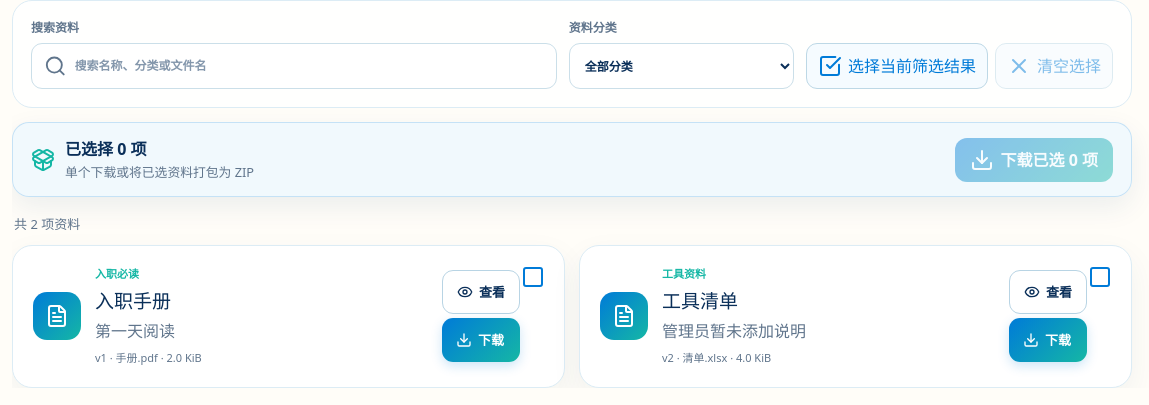
onboarding-kit UI › supports employee filtering, selecting current results and clearing selection
The width and height of the screenshot is (1149, 405).
Expected: the heading "入职手册" is shown, [95, 288, 171, 314]
Select "工具资料" in the dropdown labelled "资料分类" at (681, 66), box [569, 43, 794, 89]
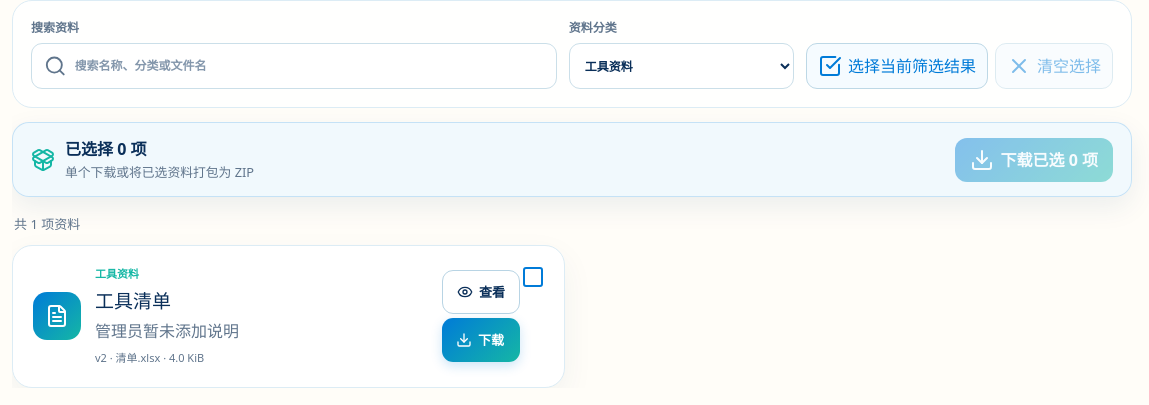
Expected: the heading "工具清单" is shown, [95, 288, 171, 314]
Result: the heading "入职手册" is gone
Click the button "选择当前筛选结果" at (897, 66), box [806, 43, 988, 89]
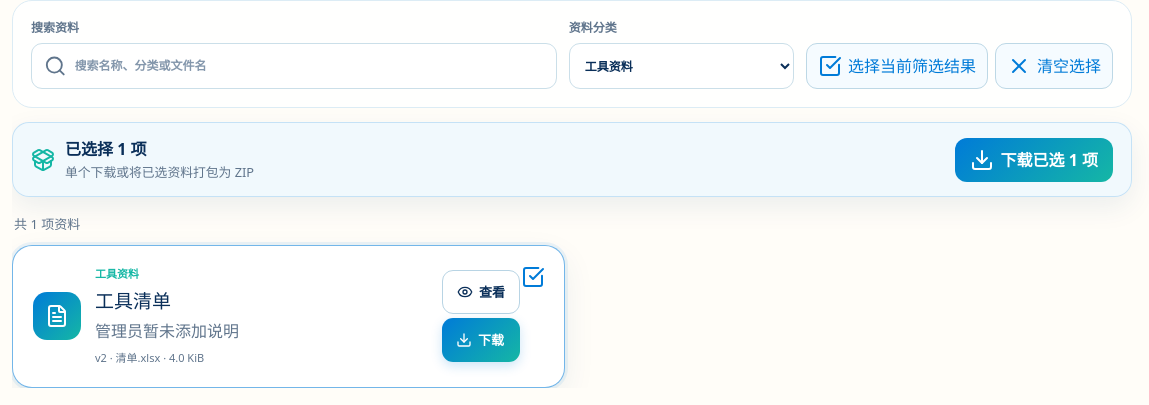
Result: the button "下载已选 1 项" is enabled at [954, 138, 1113, 182]
Click the button "清空选择" at (1054, 66), box [995, 43, 1113, 89]
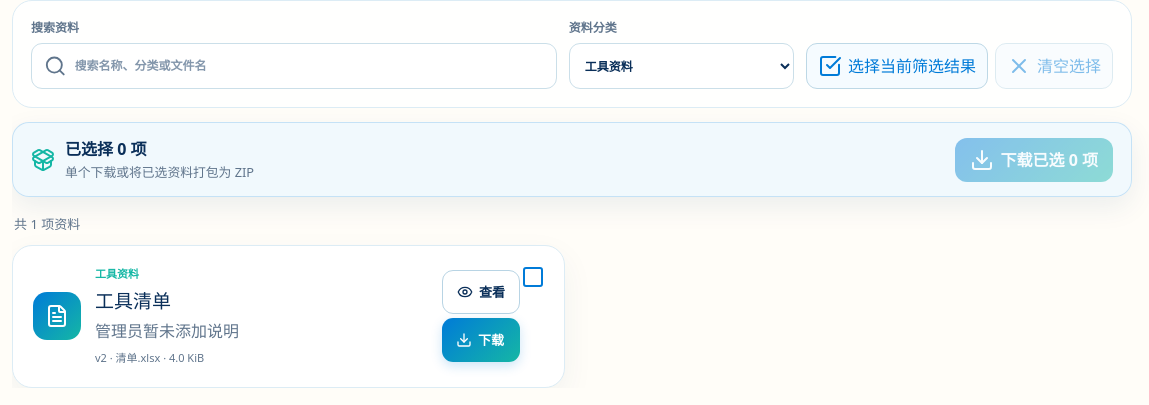
Result: the button "下载已选 0 项" is disabled at [954, 138, 1113, 182]
